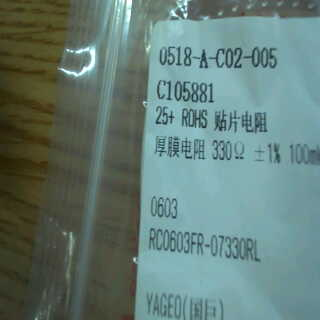330R: (208, 137, 250, 164)
